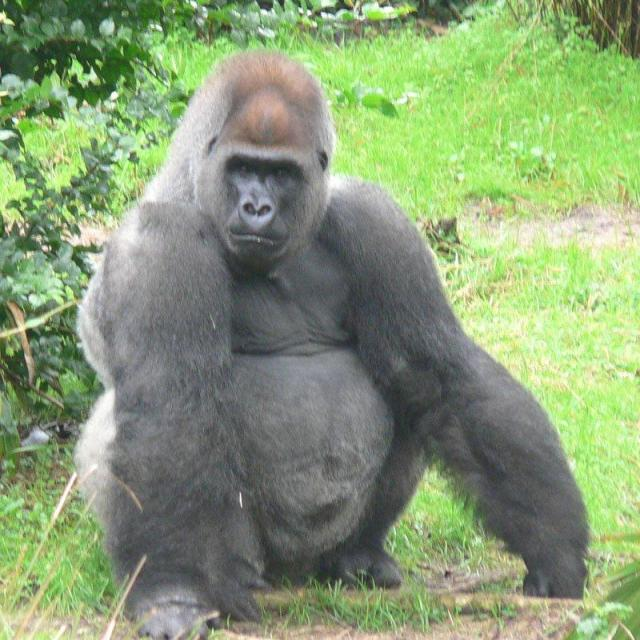Gorilla: (35, 19, 634, 640)
